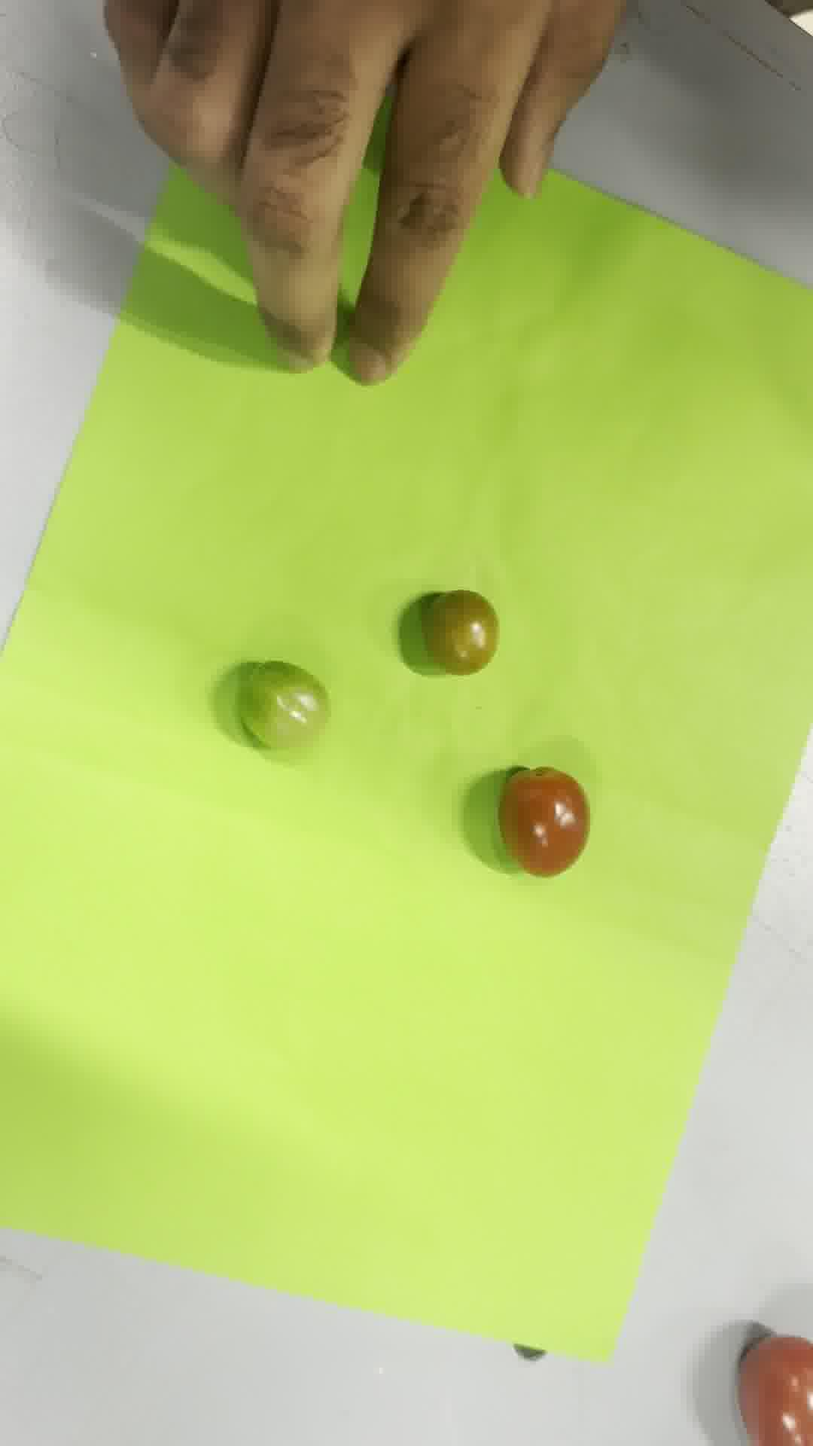green_cherry_tomato: (238, 661, 329, 748)
red_cherry_tomato: (499, 767, 589, 877)
yellow_cherry_tomato: (423, 590, 498, 675)
